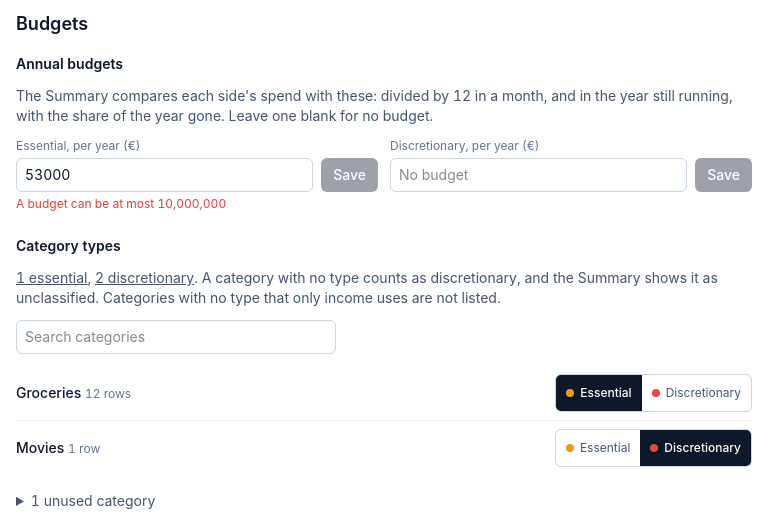
the Budgets page › narrows the list to matching names, unused ones included, and says when none match
Expected: the element named "Groceries type" is shown, [555,374,752,412]
Type "U" into the search field labelled "Search categories" at coordinates (176, 337), box [16,320,336,354]
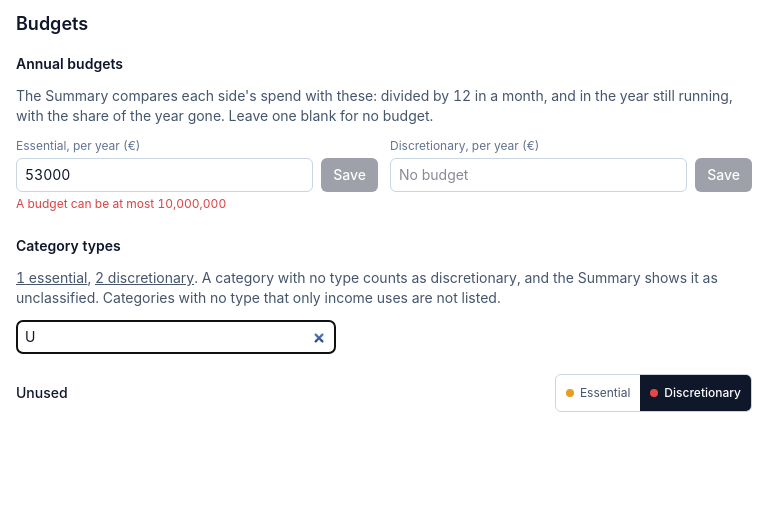
Expected: the heading "unused categor" is gone
Type "zz" into the search field named "Search categories" at coordinates (176, 337), box [16,320,336,354]
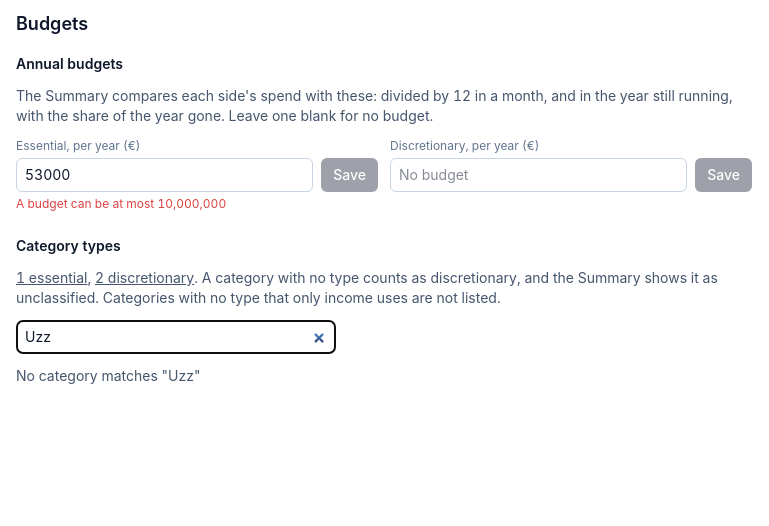
Expected: the text "No category matches \"Uzz\"" is shown, [16,367,200,384]
Clear the search field named "Search categories" at coordinates (176, 337), box [16,320,336,354]
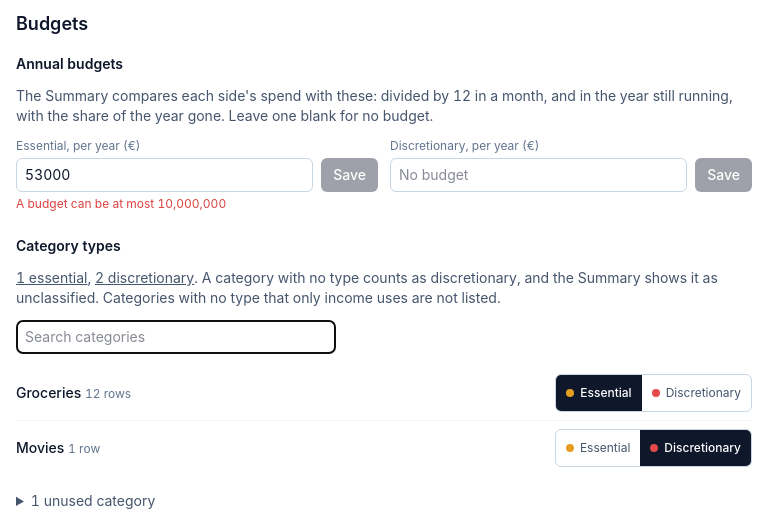
Expected: the element named "Groceries type" is shown, [555,374,752,412]
Expected: the heading "1 unused category" is shown, [31,492,155,509]
